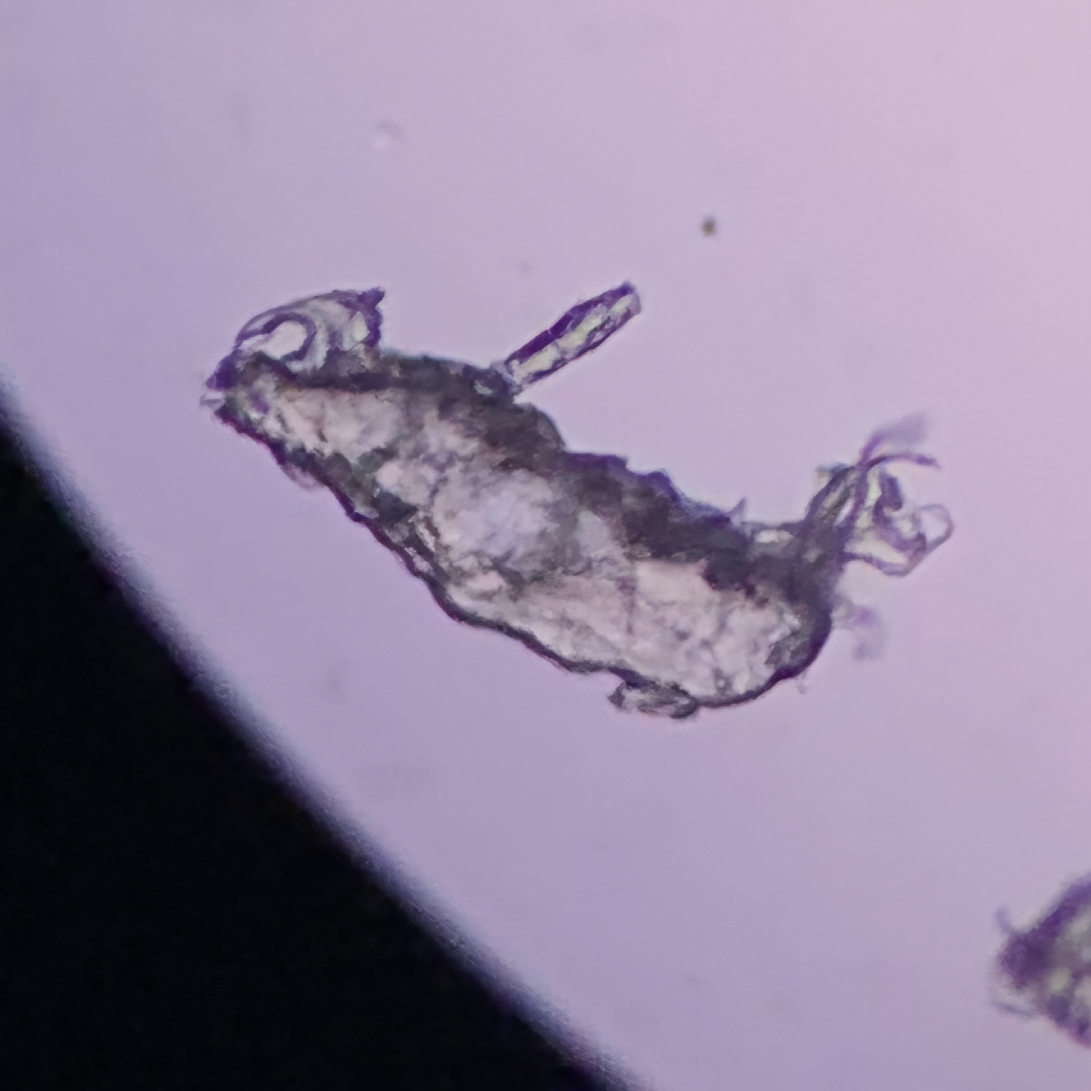microplastic: (179, 248, 959, 751)
